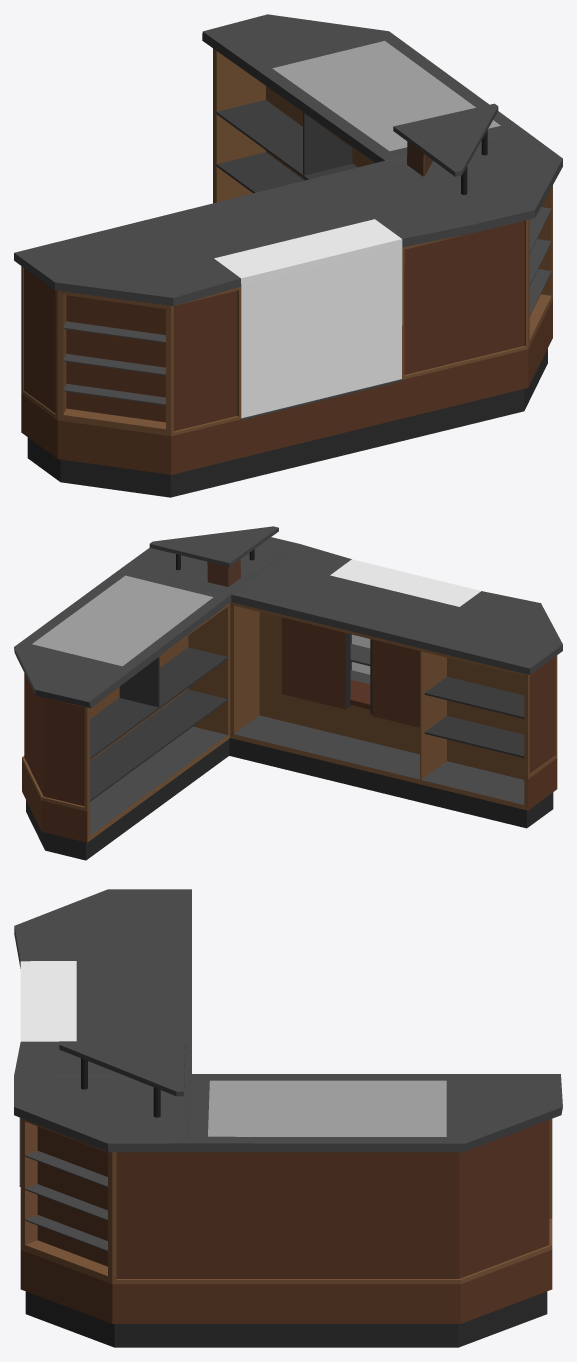
The model's file is Checkout Counter #3.fbx.
The picture shows the model from 3 angles, top to bottom: view 1: azimuth 30°, elevation 25°; view 2: azimuth 150°, elevation 25°; view 3: azimuth 270°, elevation 25°; orthographic projection. The views are drawn at different scales.
Parts seen in each view (by area): view 1: Checkout Counter #3; view 2: Checkout Counter #3; view 3: Checkout Counter #3.
Boxes of the visible parts, x1,y1,x2,y2 form: Checkout Counter #3: (14, 14, 562, 497); Checkout Counter #3: (14, 526, 562, 860); Checkout Counter #3: (14, 889, 562, 1347).
Bounding box in the file's own units: 269 × 122 × 245.
Materials: 2 (1 with a texture image).
